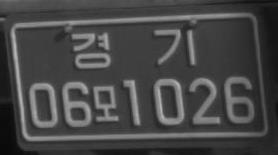0: (151, 78, 186, 126), (26, 81, 59, 130)
1: (120, 78, 145, 126)
2: (188, 76, 221, 126)
6: (60, 79, 93, 129), (223, 74, 255, 125)
경기_D: (70, 25, 197, 72)
모: (92, 84, 119, 122)
